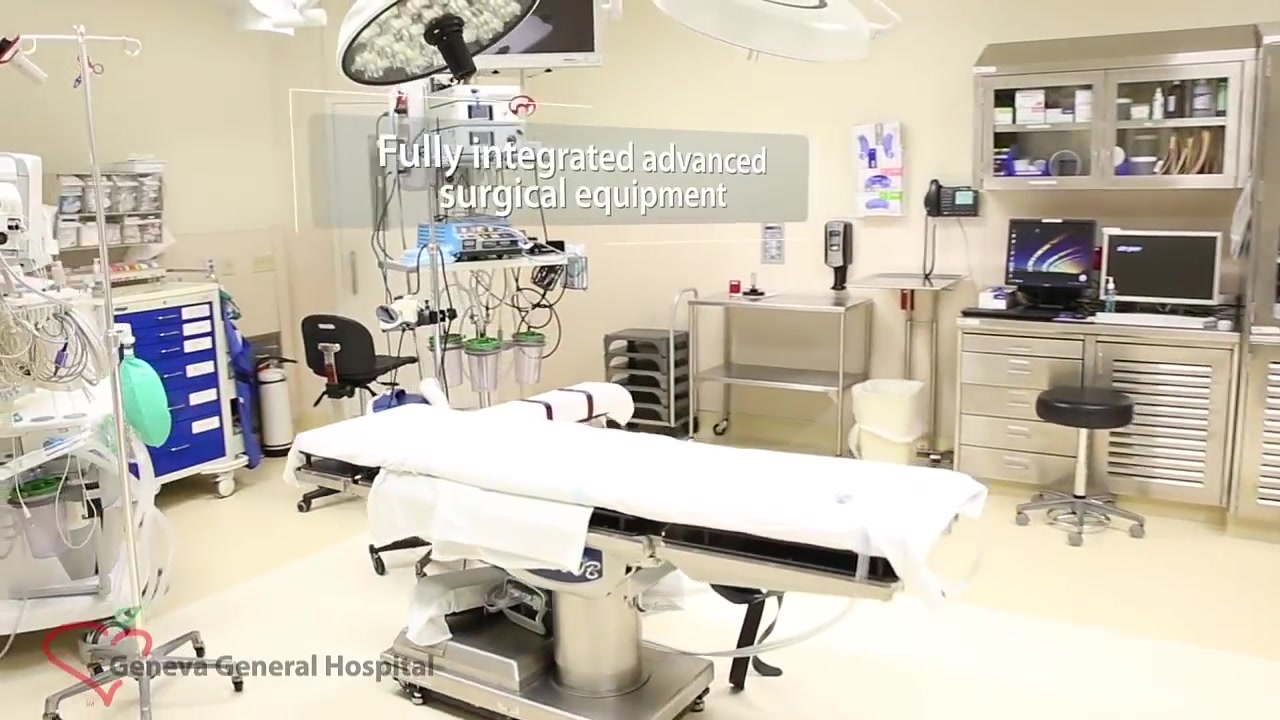bedside_monitor: (447, 1, 602, 68), (1098, 227, 1223, 306), (1004, 217, 1095, 288)
breathing_tube: (71, 414, 178, 617)
cabinet: (970, 19, 1255, 190)
chair: (1014, 386, 1146, 546), (298, 313, 417, 416)
dispenser: (823, 220, 854, 291)
drawer: (954, 302, 1236, 507)
electrosurgical_unit: (417, 218, 533, 262)
handle: (346, 253, 366, 294), (1000, 454, 1031, 475), (1003, 390, 1031, 413), (1005, 357, 1033, 379), (1002, 423, 1033, 442), (1091, 149, 1101, 179), (1103, 150, 1113, 180), (1004, 343, 1035, 351), (156, 313, 180, 322), (162, 370, 185, 379), (160, 346, 183, 355), (158, 330, 181, 339), (169, 443, 191, 452), (168, 403, 187, 411)
iv_pole: (1, 23, 148, 657)
keyboard: (962, 308, 1054, 320)
medical_drawer: (94, 281, 251, 495)
mouse: (1215, 319, 1234, 330)
operating_bed: (285, 382, 988, 720)
surgical_light: (336, 1, 540, 86), (652, 1, 905, 64)
telephone: (922, 178, 981, 221)
utility_cart: (688, 294, 871, 456), (853, 273, 961, 380)
ventilator: (1, 150, 166, 636)
waste_bin: (851, 379, 928, 467)
